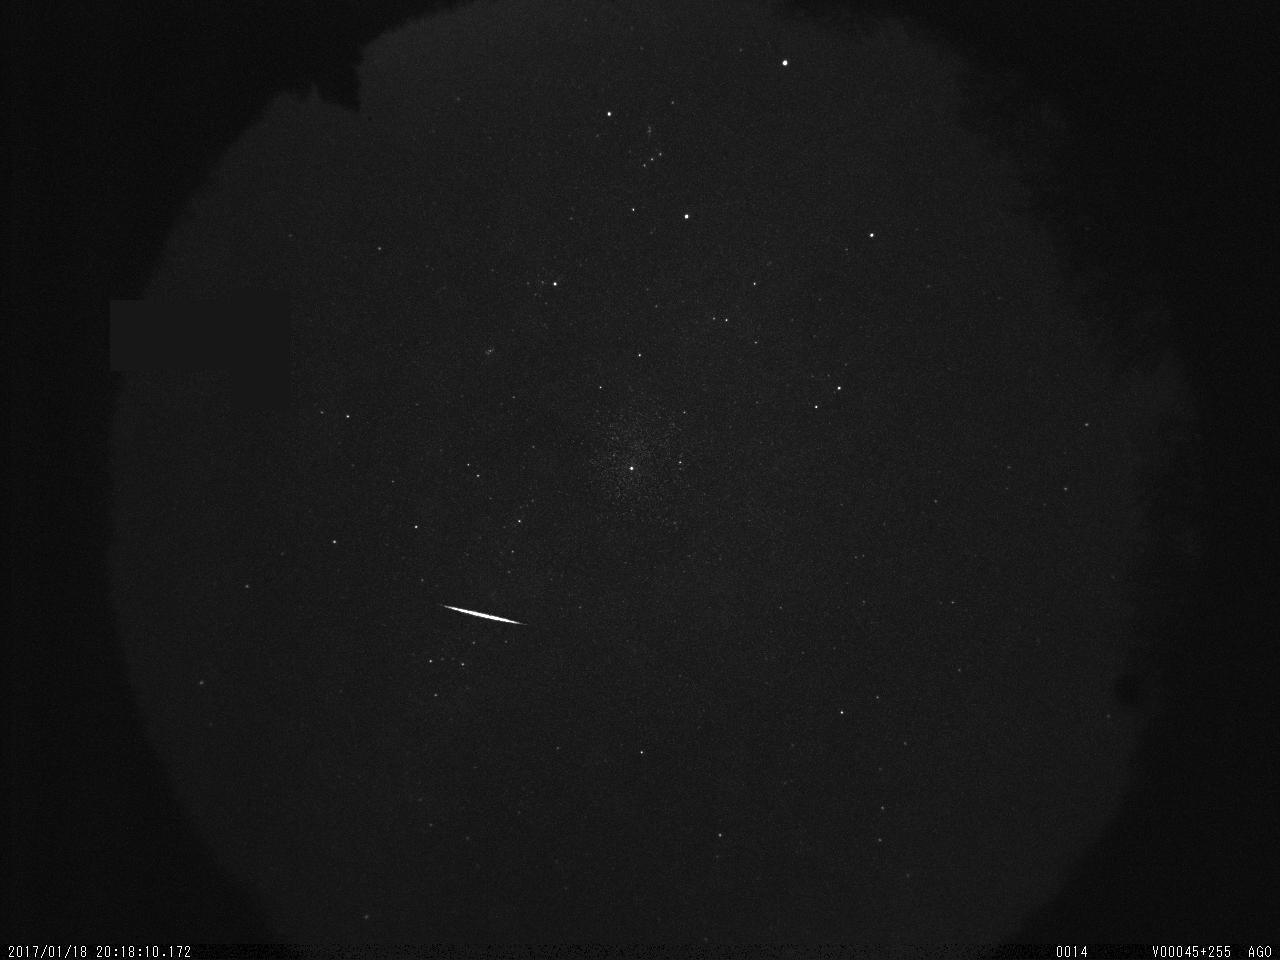meteor: (432, 594, 531, 638)
